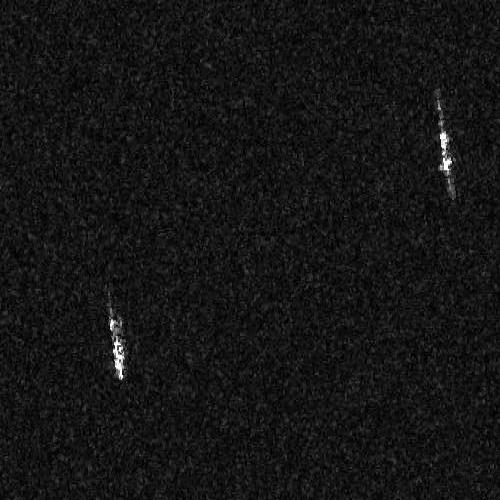ship: (434, 91, 456, 197), (107, 301, 127, 383)
